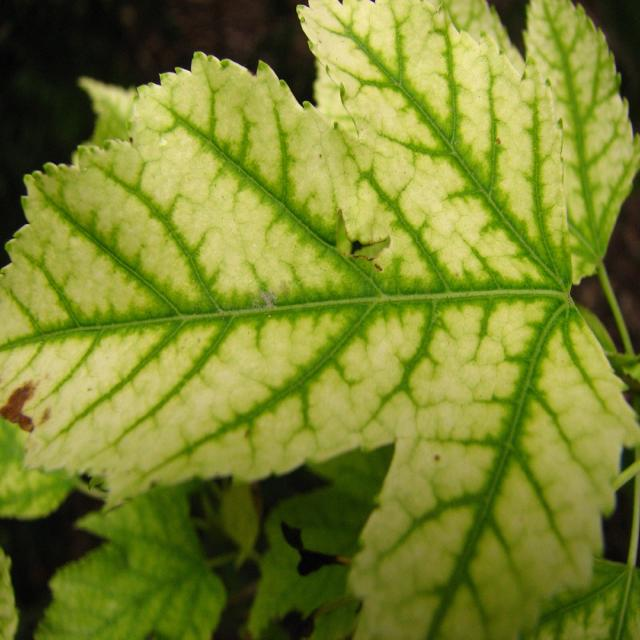Chlorosis: (8, 8, 640, 610)
